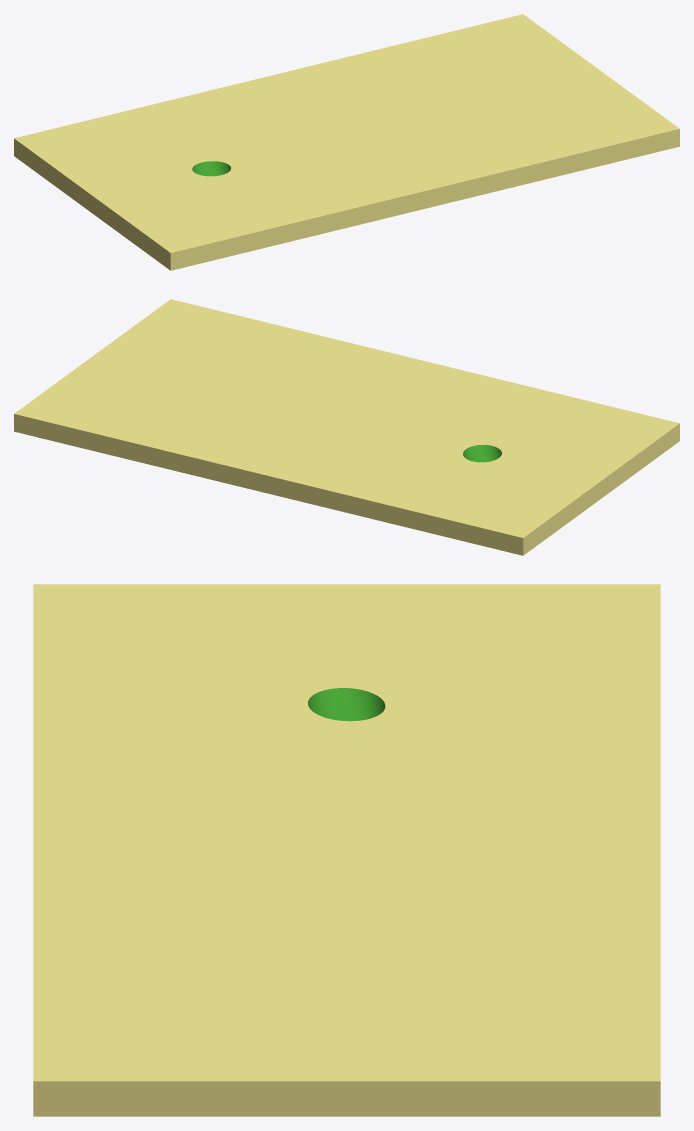
File: boardDeneme2.fbx
3 views of the same model, one above another, from view 1: azimuth 30°, elevation 25°; view 2: azimuth 150°, elevation 25°; view 3: azimuth 270°, elevation 25° (orthographic). The views are drawn at different scales.
Visible parts, largest first — view 1: Cylinder.001; view 2: Cylinder.001; view 3: Cylinder.001.
Boxes of the visible parts, x1,y1,x2,y2 form: Cylinder.001: [14, 14, 679, 270]; Cylinder.001: [14, 299, 679, 555]; Cylinder.001: [33, 584, 660, 1116].
Size of the model in its own units: 5554 by 353 by 2962.
